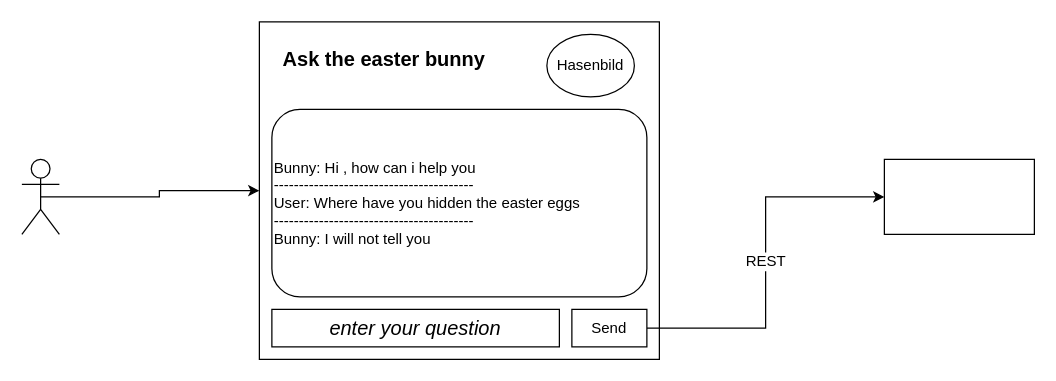
The diagram is 1056 pixels wide and 381 high, and some of its shapes have lost their labels. Here are the shapes that lost their labels. From the top down, the centre of each, then its label:
[40,196]: User
[958,196]: BunnyBackend ---- mocks an AI or whatever service
